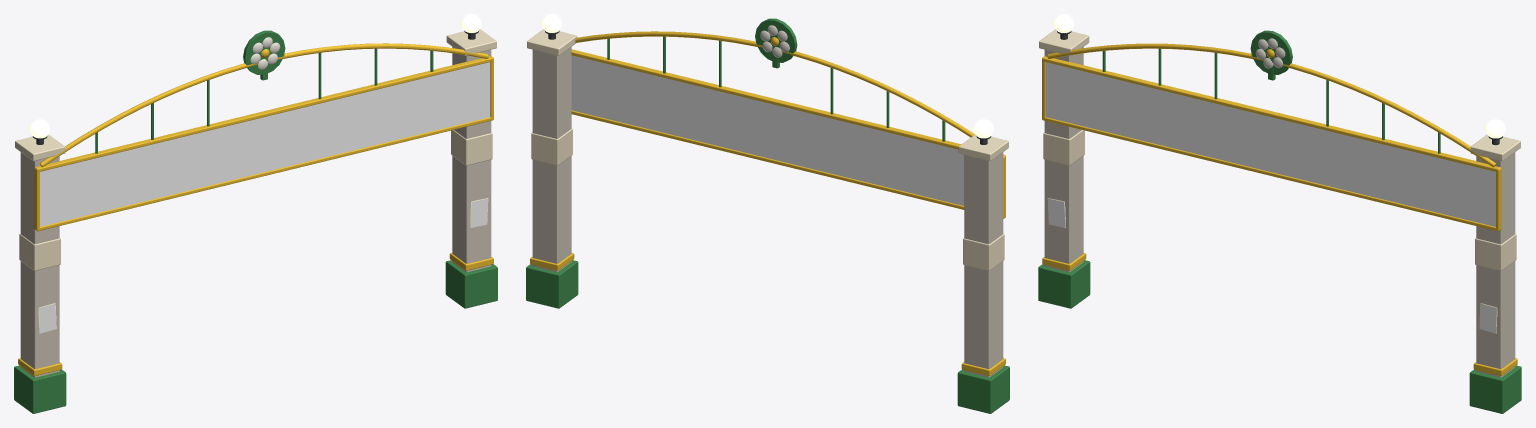
Rendered from prop_gate_arch.glb.
The picture shows the model from 3 angles, left to right: view 1: azimuth 30°, elevation 25°; view 2: azimuth 150°, elevation 25°; view 3: azimuth 330°, elevation 25°; orthographic projection.
Visible parts, largest first — view 1: prop_gate_arch; view 2: prop_gate_arch; view 3: prop_gate_arch.
Part boxes in pixels (left/top/right/bottom): prop_gate_arch: left=14, top=14, right=497, bottom=413; prop_gate_arch: left=526, top=14, right=1009, bottom=413; prop_gate_arch: left=1038, top=14, right=1521, bottom=413.
Bounding box in the file's own units: 9.16 × 6.12 × 0.695.
